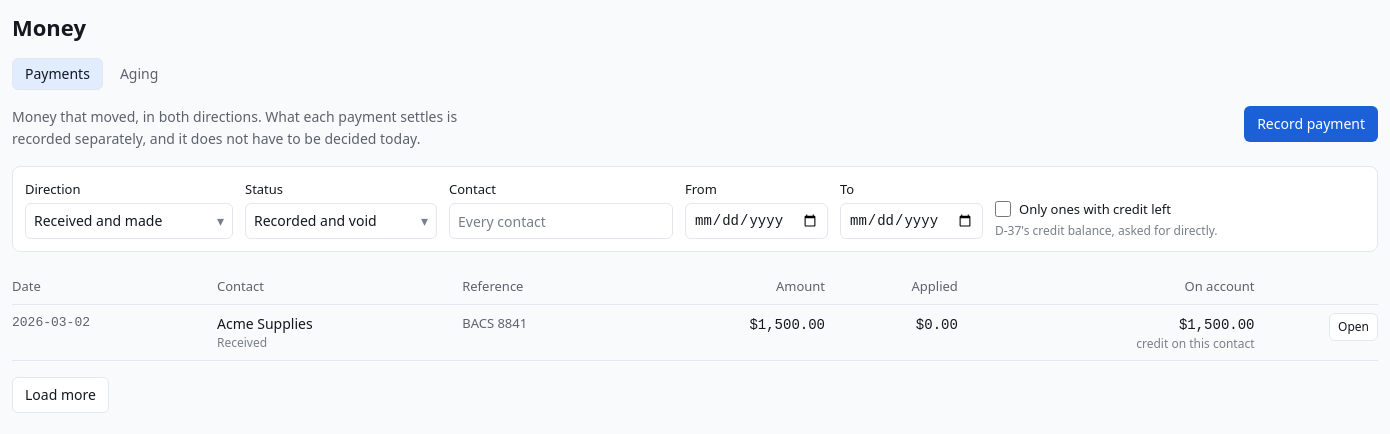
Test: MoneyInScreen — payments › pages on the cursor it was given, and only when it was given one
The image size is (1390, 434).
Click the button "Load more".
click(60, 395)  # box [12,377,109,413]
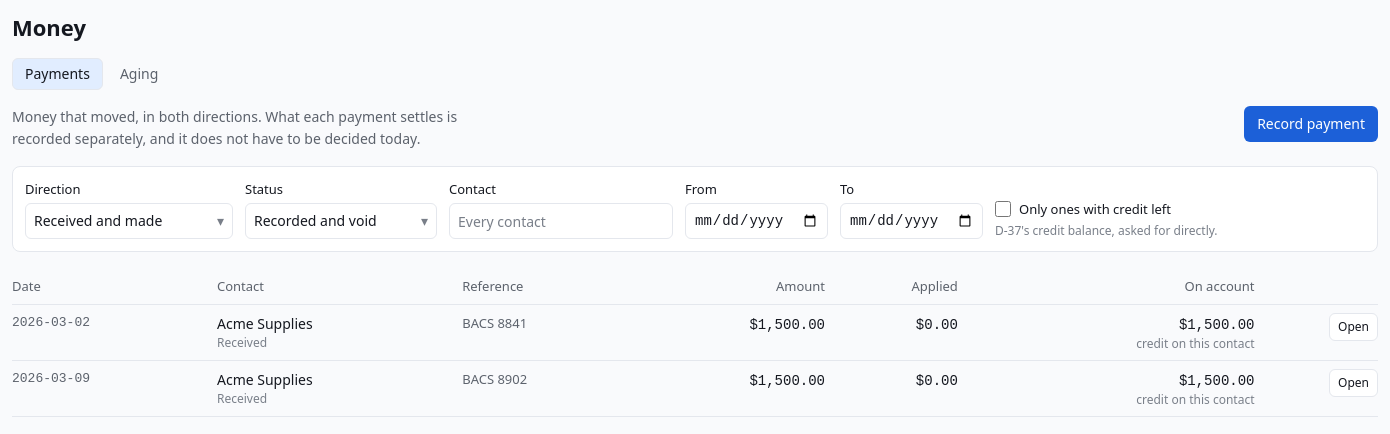
Expected: the button with aria-label "Open the 2026-03-09 payment for Acme Supplies" is shown, [1329,369,1378,397]
Expected: the button "Load more" is gone
